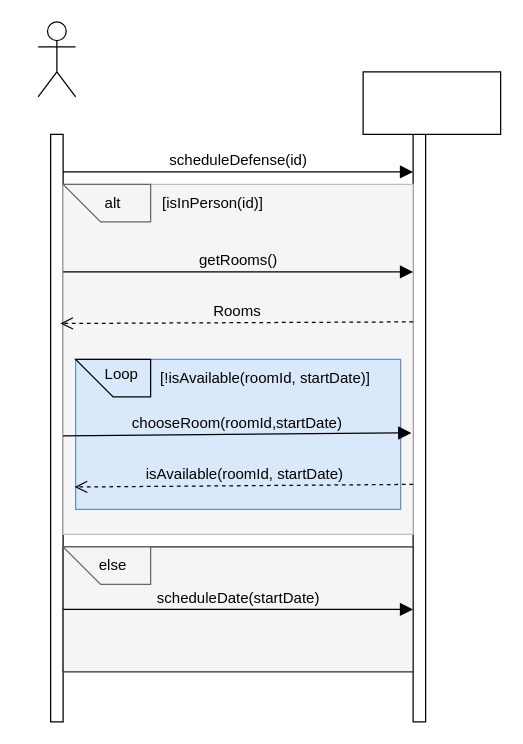
Image size: 523x744. Some labels were removed from this diagram. Here are the shapes that lost their labels. From the top down, the centre of each, then its label:
the point at 56,59: Councellor
the point at 431,102: :System
